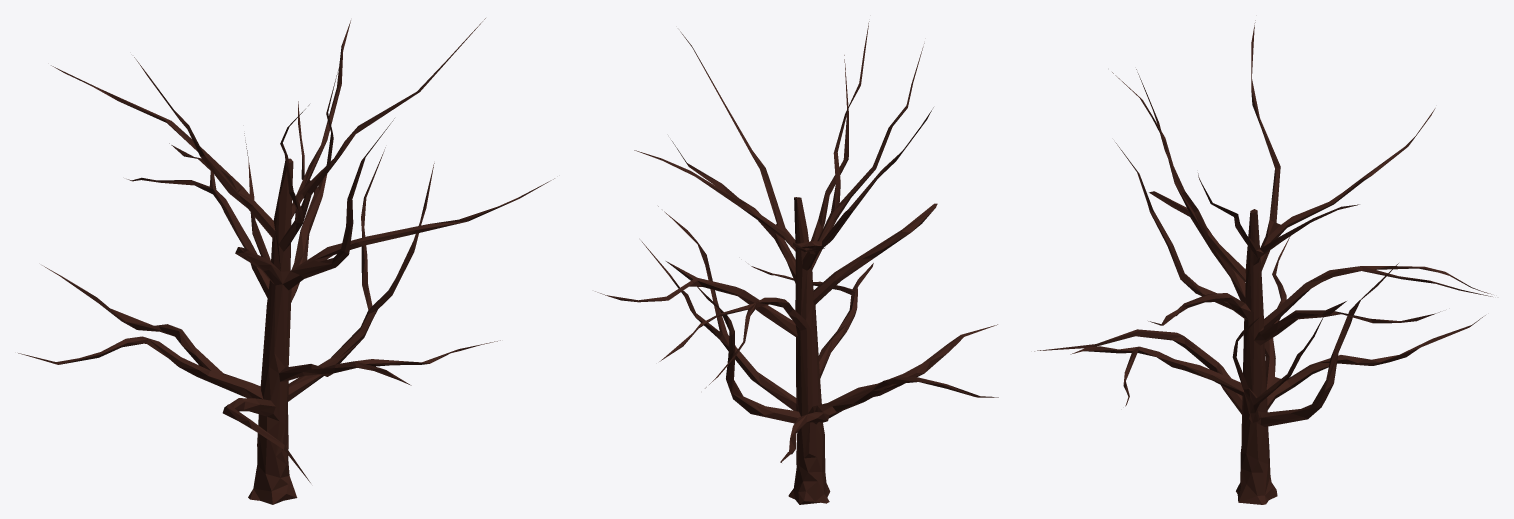
Rendered from dead_tree_g.FBX.
3 renders of one model, left to right at view 1: azimuth 30°, elevation 25°; view 2: azimuth 150°, elevation 25°; view 3: azimuth 270°, elevation 25°, orthographic. The views are drawn at different scales.
Visible parts, largest first — view 1: dead_tree_g; view 2: dead_tree_g; view 3: dead_tree_g.
Part boxes in pixels (bbox=[...]): dead_tree_g: bbox=[18, 18, 554, 504]; dead_tree_g: bbox=[595, 21, 998, 504]; dead_tree_g: bbox=[1034, 20, 1492, 504].
Bounding box in the file's own units: 1341 × 1362 × 1338.
